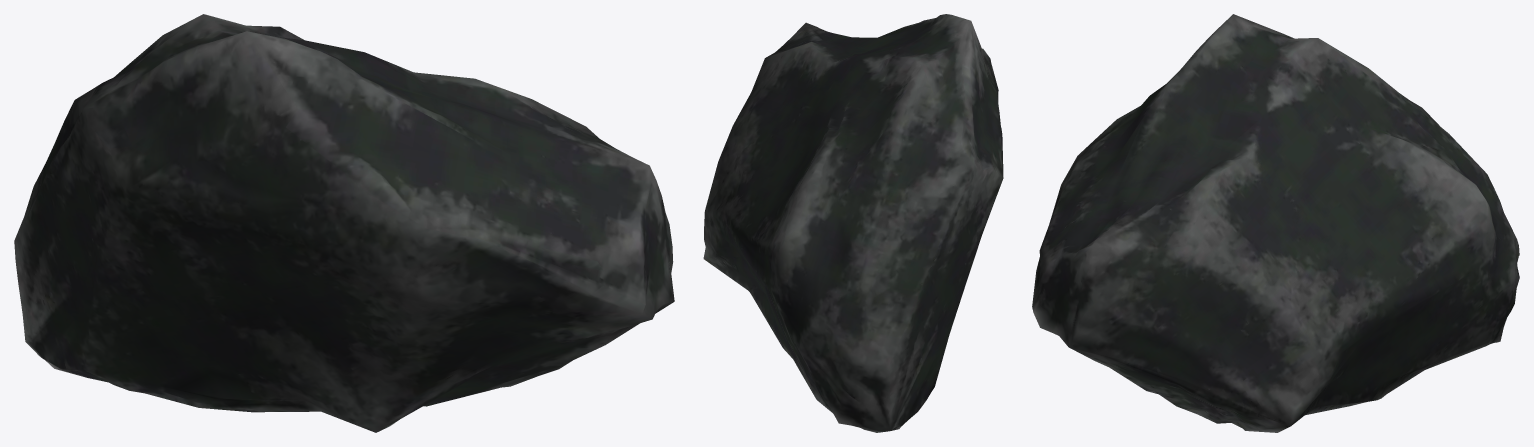
Rendered from rockDemo_02.glb.
3 views of the same model, side by side, from view 1: azimuth 30°, elevation 25°; view 2: azimuth 150°, elevation 25°; view 3: azimuth 270°, elevation 25° (orthographic). The views are drawn at different scales.
Parts seen in each view (by area): view 1: Rock_02; view 2: Rock_02; view 3: Rock_02.
Part boxes in pixels (left/top/right/bottom): Rock_02: left=14, top=14, right=674, bottom=432; Rock_02: left=703, top=14, right=1003, bottom=432; Rock_02: left=1032, top=14, right=1519, bottom=432.
Bounding box in the file's own units: 0.4166 × 0.415 × 0.5422.
Materials: 1 (1 with a texture image).
